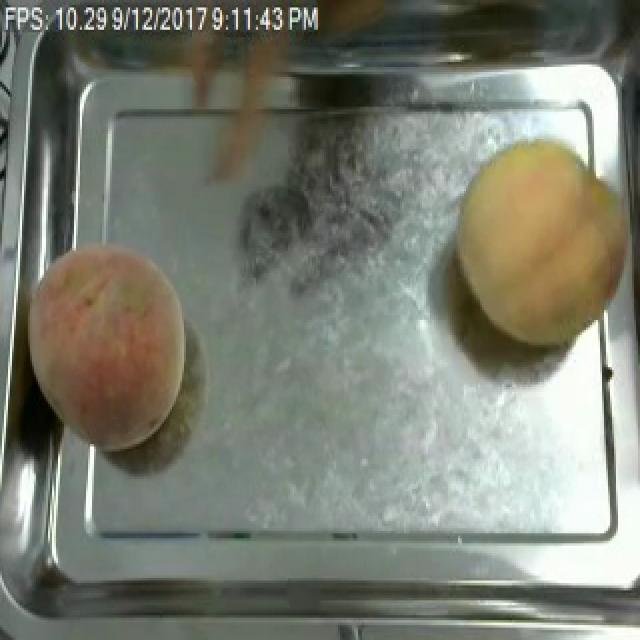Fruit: (444, 129, 640, 360), (14, 228, 198, 462)
